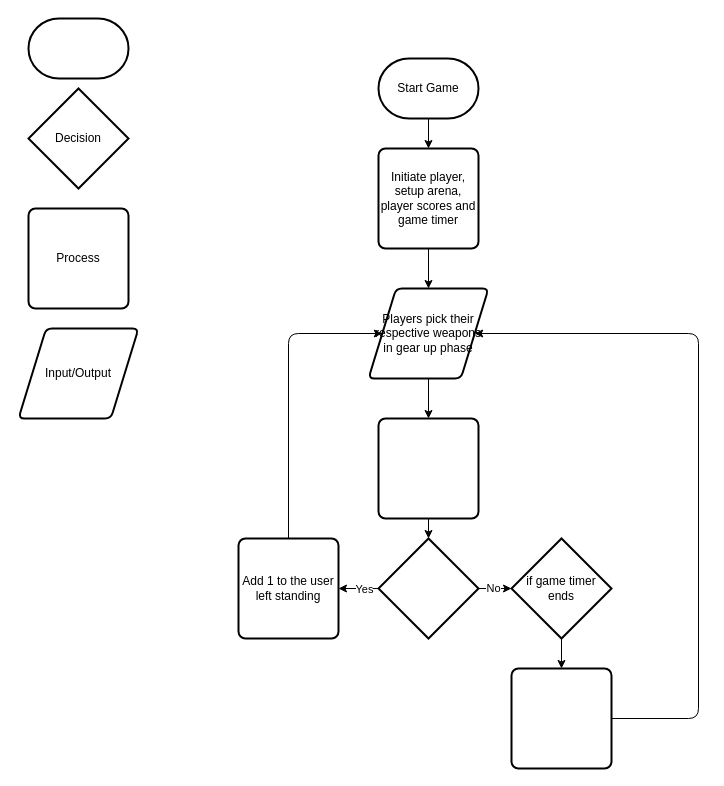
Some shapes in this 724 by 786 pixel diagram are drawn without their labels. The centre of each missing label's shape, as x and y in pixels:
if one player is left: pixel 428 588
Proceed to next round: pixel 561 718
Proceed to the fighting arena when timer cooldown has finished: pixel 428 468
Start: pixel 78 48
